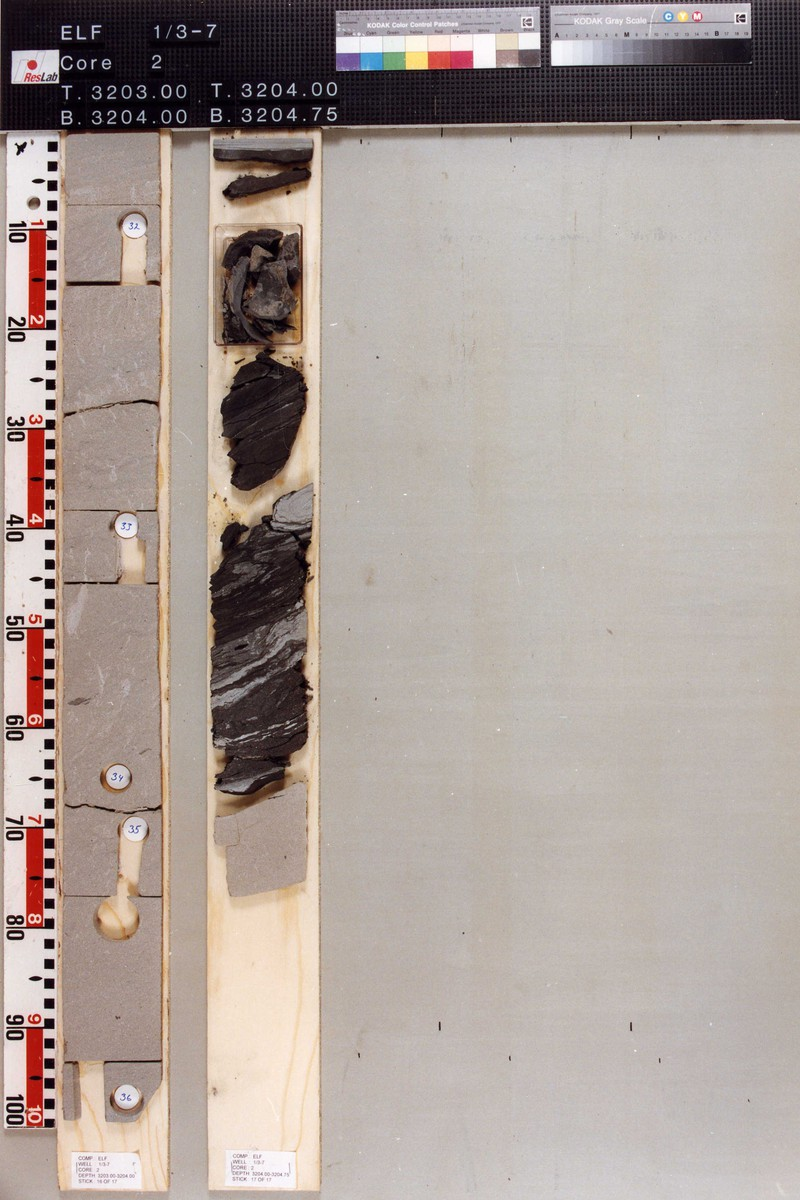core: (61, 134, 166, 1127), (210, 135, 314, 899)
